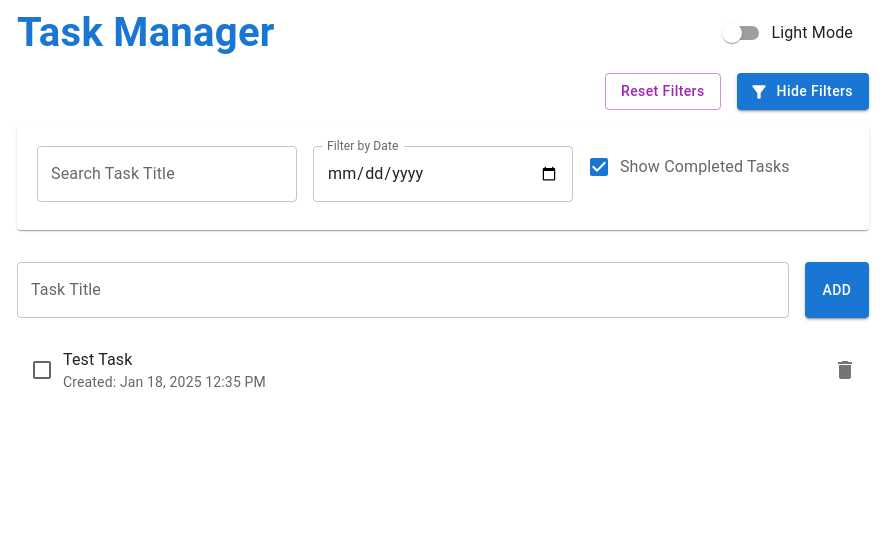
Test: App Component › handles multiple tasks correctly
# Add two tasks and check if both appear
Type "Task 1" into the field with placeholder "Task Title".
click(403, 290); type("Task 1")  # box [17,262,789,318]
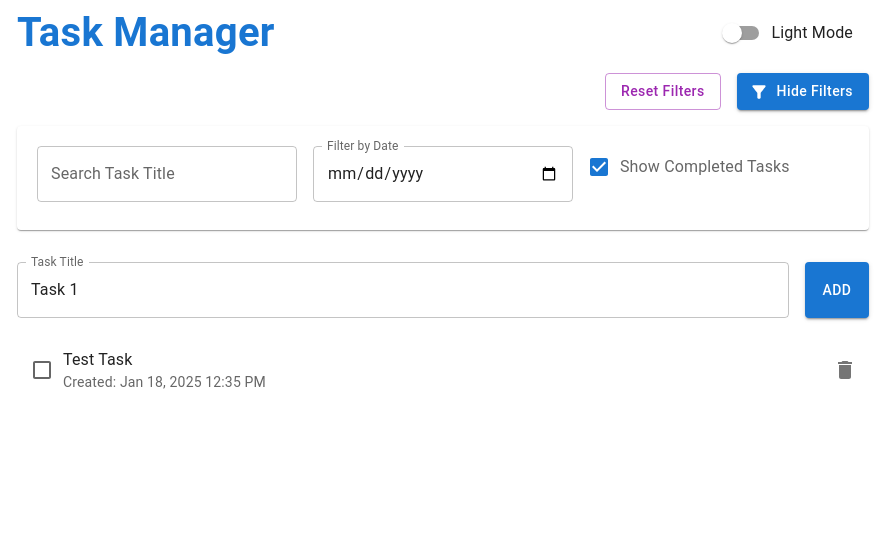
Click the button "Add".
click(837, 290)  # box [805,262,869,318]
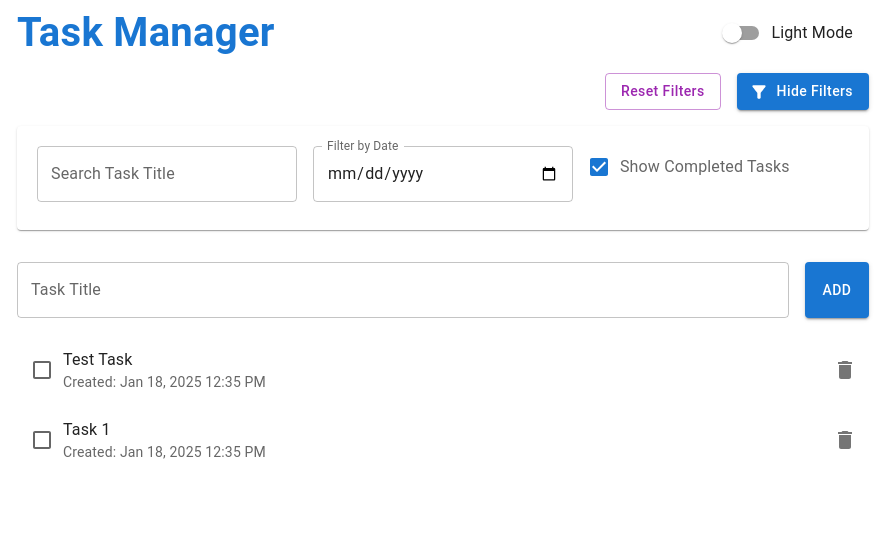
Type "Task 2" into the field with placeholder "Task Title".
click(403, 290); type("Task 2")  # box [17,262,789,318]
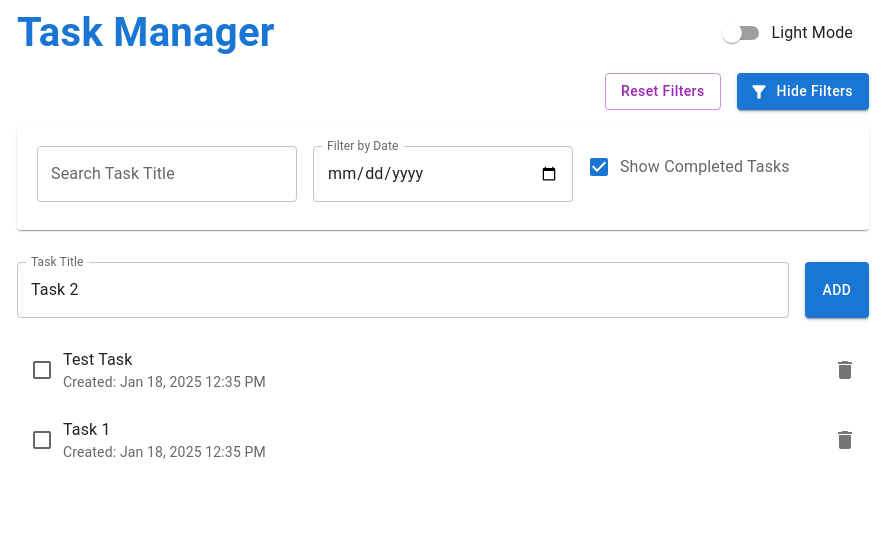
Click the button "Add".
click(837, 290)  # box [805,262,869,318]
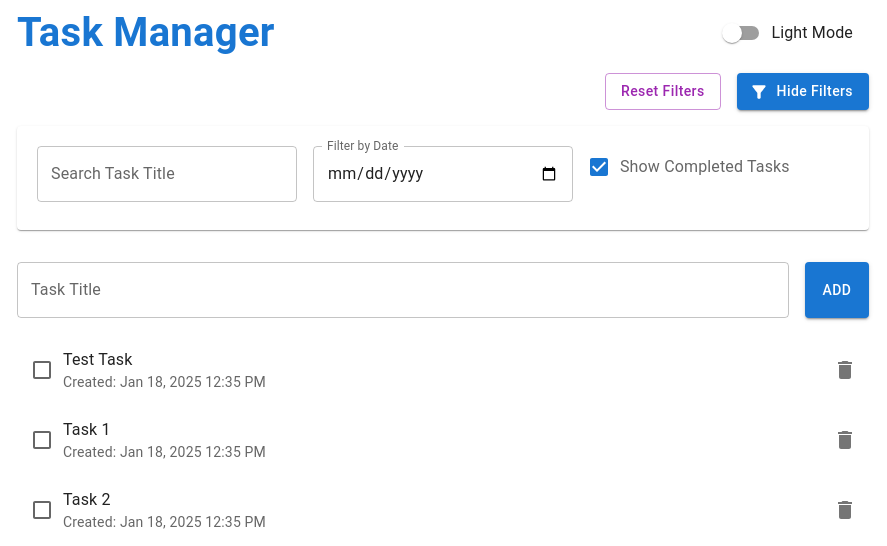
Check: the text "Task 1" is shown, box [63,420,111,439]
Check: the text "Task 2" is shown, box [63,490,111,509]
